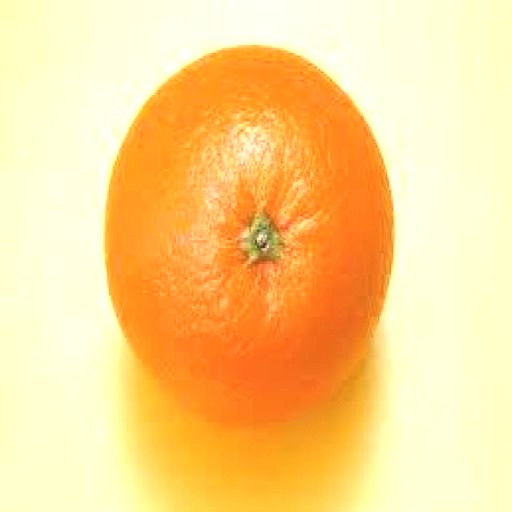fruit: (51, 128, 159, 401)
